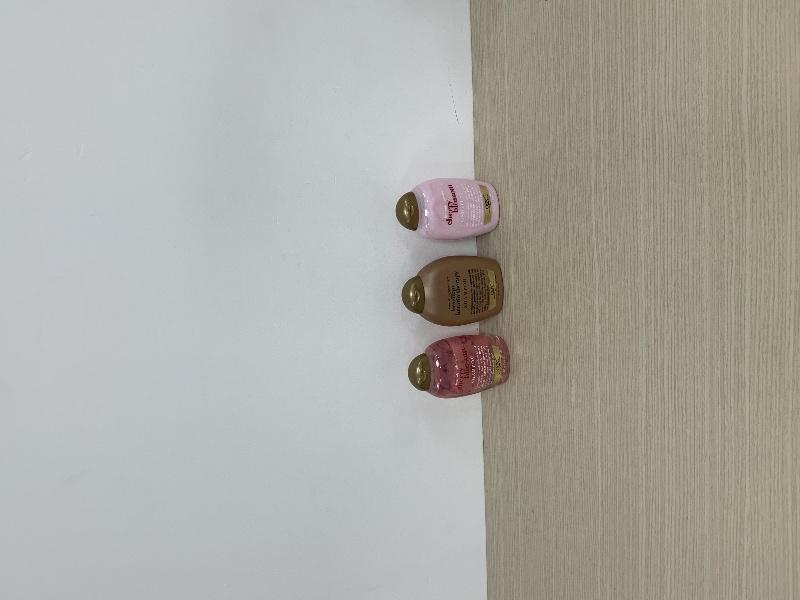BrazilianKeratinTherapy_Shampoo: (402, 255, 504, 327)
CherryBlossom_Conditioner: (396, 178, 500, 241)
CherryBlossom_Shampoo: (408, 335, 510, 399)
